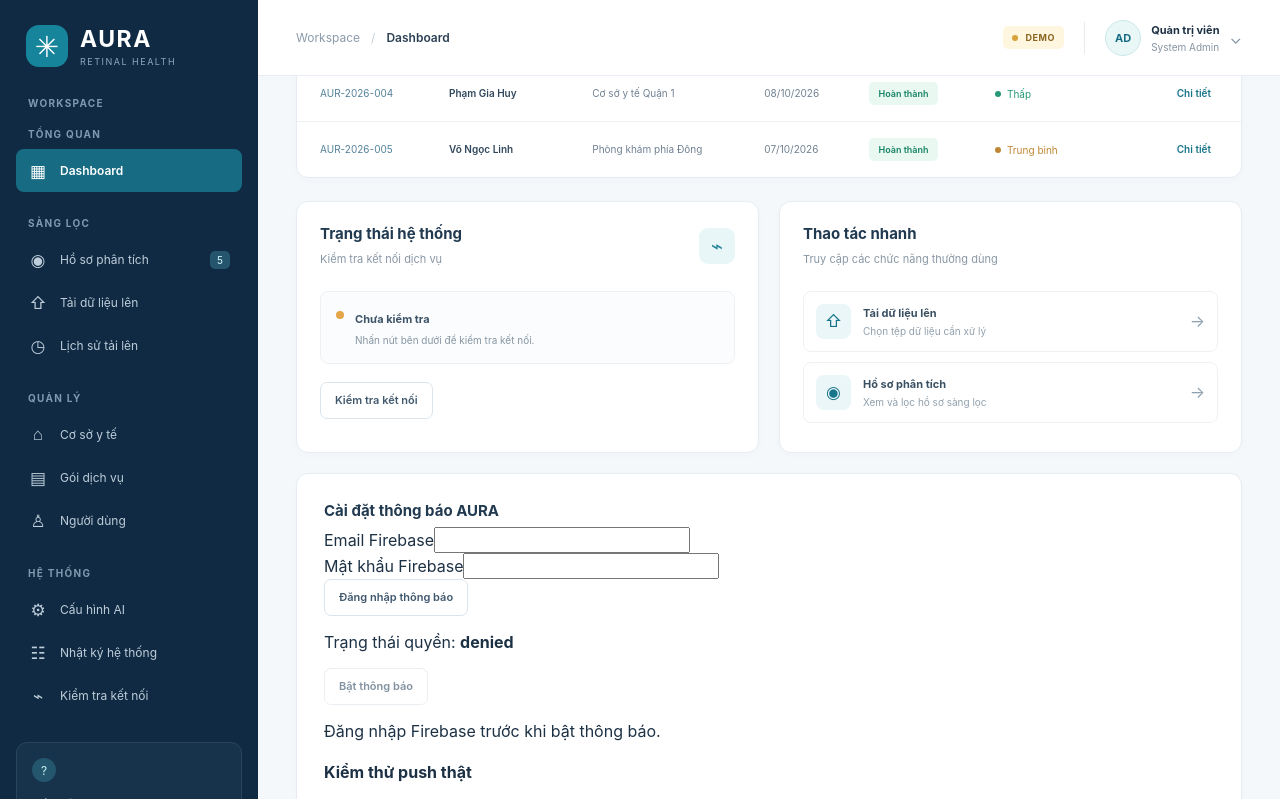
Test case: AURA connection check › displays the service after a successful request
(page scrolled)
Click the button "Kiểm tra kết nối".
click(376, 400)  # box x1=320 y1=382 x2=433 y2=419
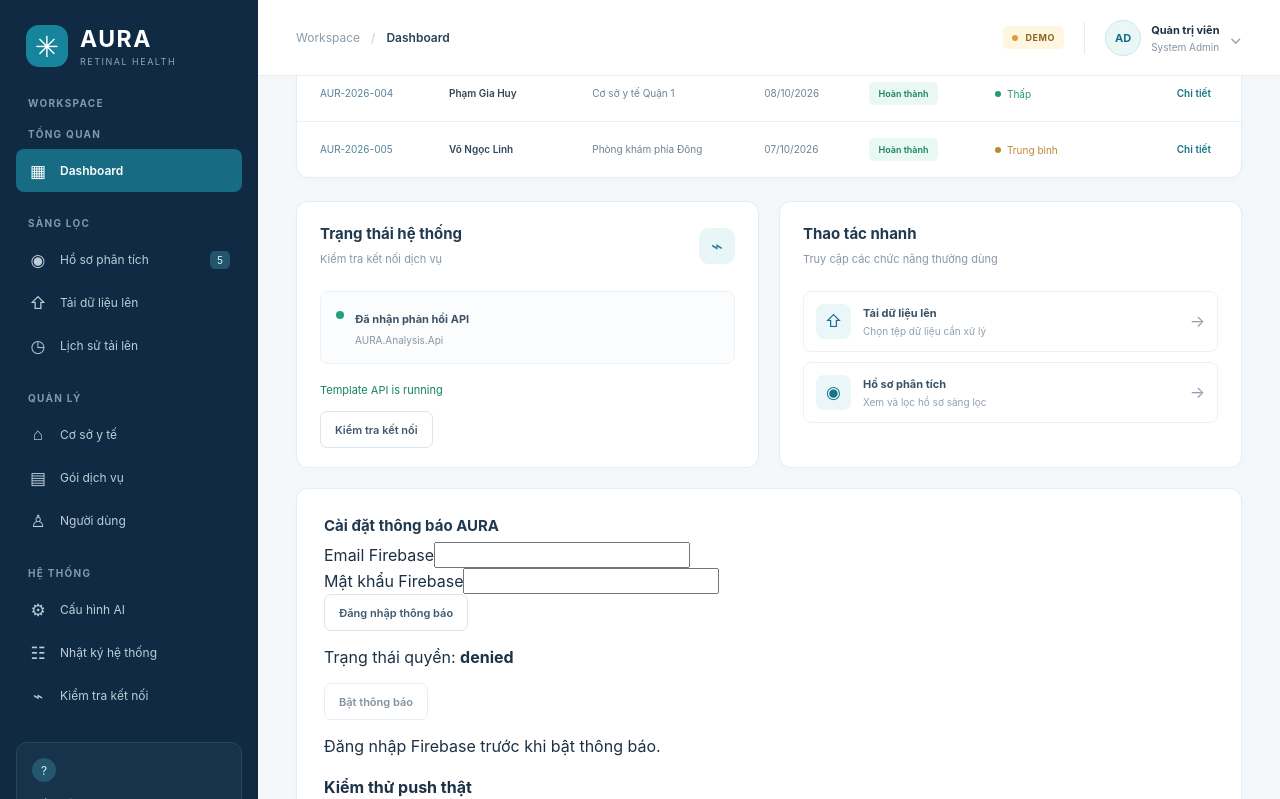
Expected: the text "AURA.Analysis.Api" is shown, x1=355 y1=334 x2=443 y2=346
